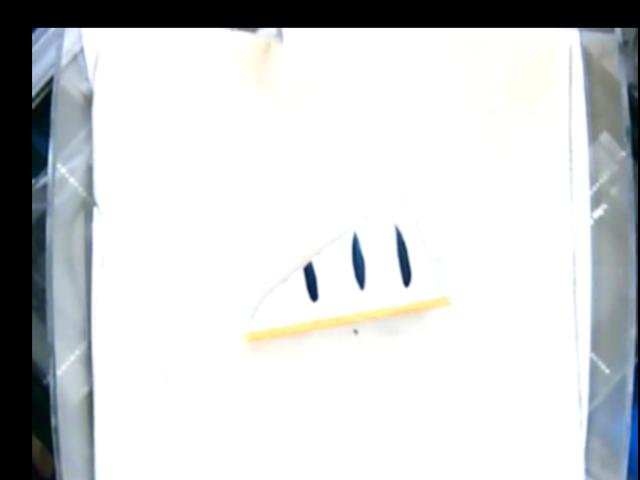China: (237, 199, 453, 342)
